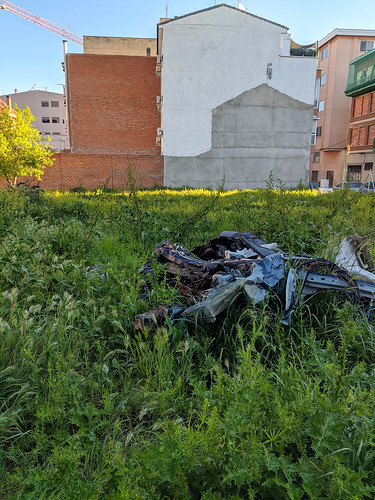building: (65, 6, 316, 190), (317, 35, 375, 190), (1, 83, 67, 152)
trash: (129, 219, 375, 358)
vegetation: (8, 191, 375, 497)
